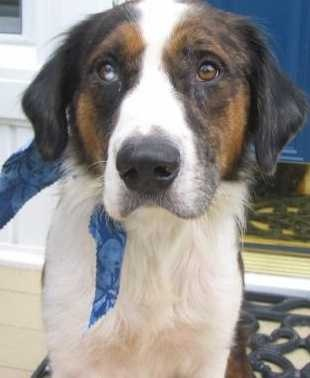Dog: (49, 0, 262, 355)
